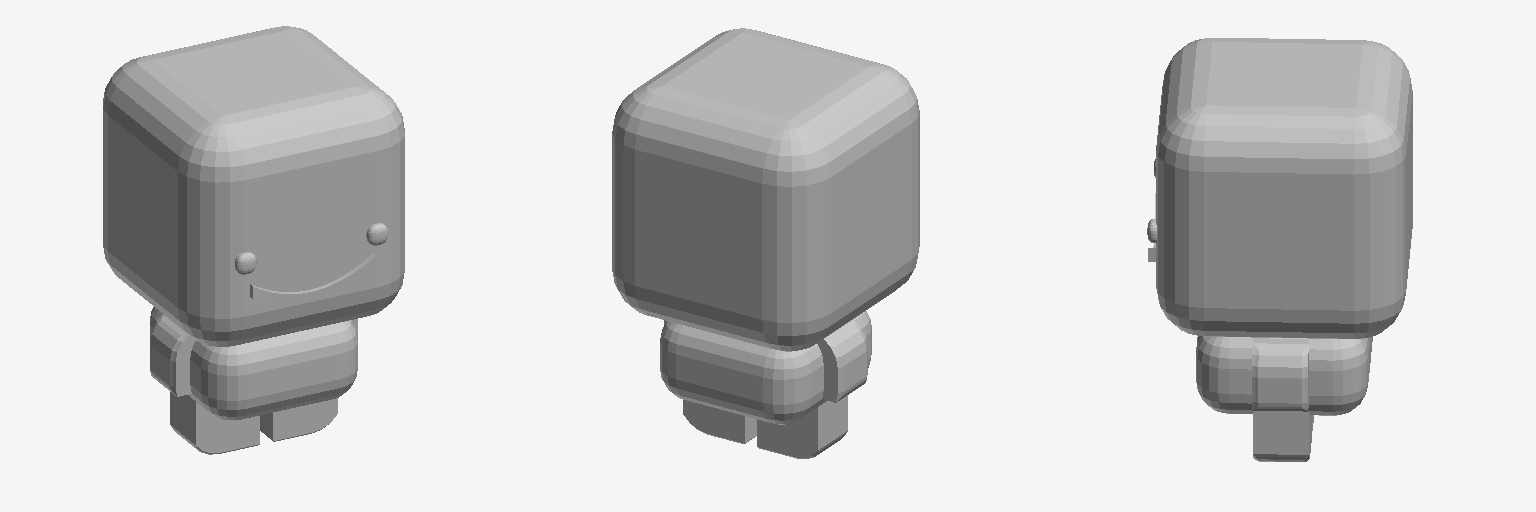
The model's file is happy.obj.
The picture shows the model from 3 angles: view 1: azimuth 30°, elevation 25°; view 2: azimuth 150°, elevation 25°; view 3: azimuth 270°, elevation 25°; orthographic projection.
Visible parts, largest first — view 1: The_limited_1_Head_1, The_limited_1_Body, The_limited_1_mouth; view 2: The_limited_1_Head_1, The_limited_1_Body; view 3: The_limited_1_Head_1, The_limited_1_Body.
Part boxes in pixels (x1,y1,x2,y2): The_limited_1_Head_1: (103, 26, 404, 346); The_limited_1_Body: (150, 307, 357, 454); The_limited_1_mouth: (250, 253, 376, 302); The_limited_1_Head_1: (612, 28, 919, 351); The_limited_1_Body: (660, 311, 871, 458); The_limited_1_Head_1: (1156, 38, 1412, 338); The_limited_1_Body: (1196, 336, 1372, 461).
Bounding box in the file's own units: 3.03 × 4.72 × 3.13.